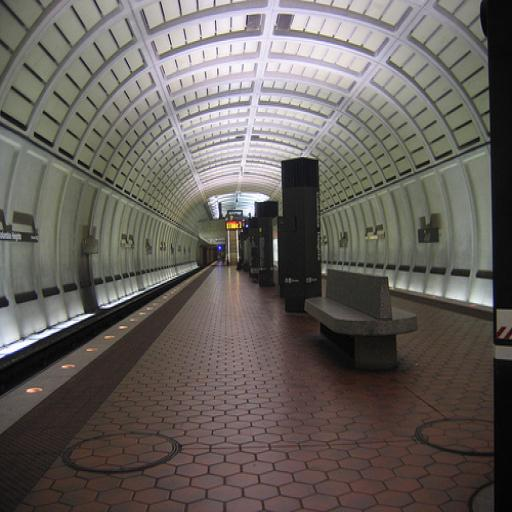platform_edge: (0, 266, 193, 512)
